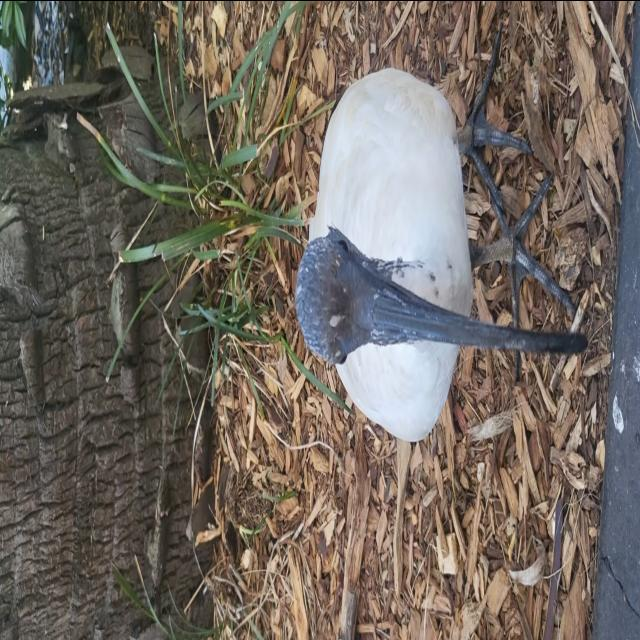Birds-Ibis: (290, 11, 592, 448)
